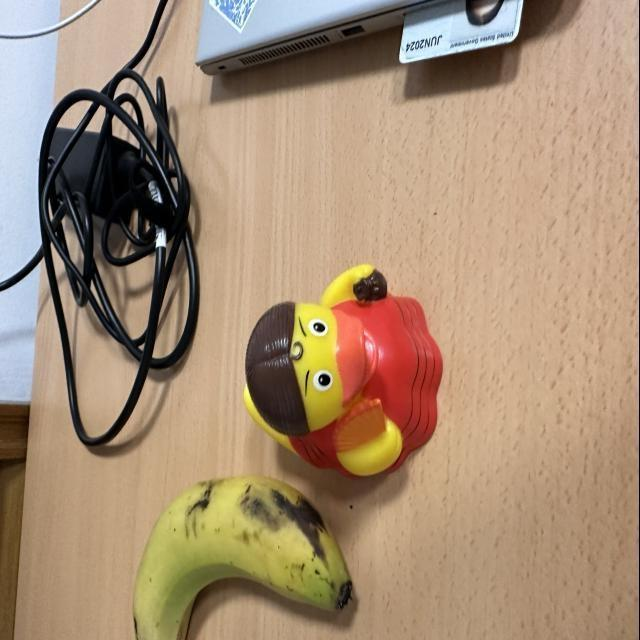rubber-duck: (243, 263, 441, 474)
